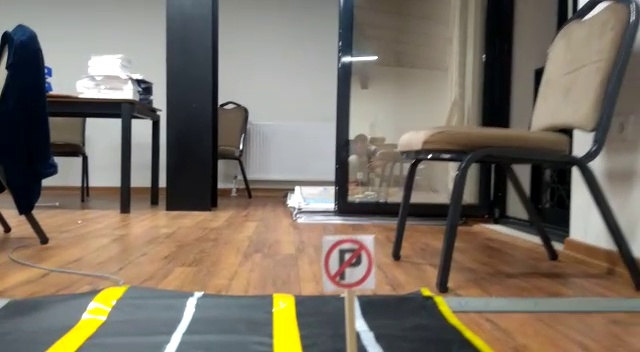park_yapilmaz: (323, 232, 376, 289)
